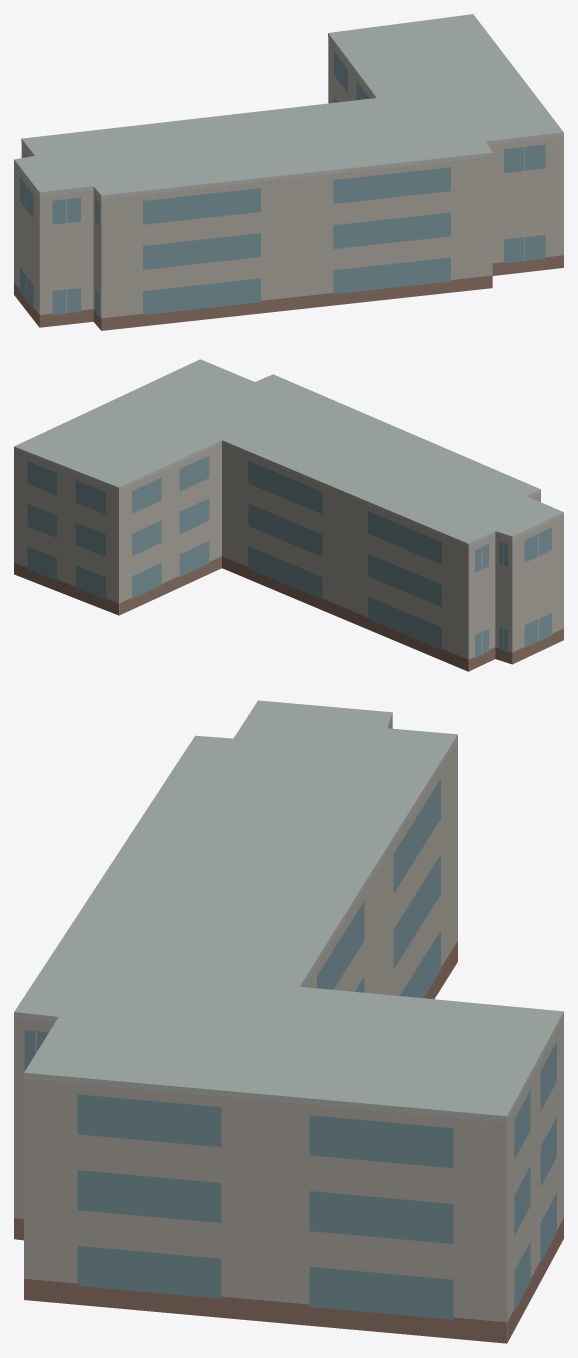
The model's file is survey-upis-32679954.glb.
3 views of the same model, one above another, from view 1: azimuth 30°, elevation 25°; view 2: azimuth 150°, elevation 25°; view 3: azimuth 270°, elevation 25° (orthographic). The views are drawn at different scales.
Visible parts, largest first — view 1: survey-upis-32679954.tmp; view 2: survey-upis-32679954.tmp; view 3: survey-upis-32679954.tmp.
Boxes of the visible parts, bbox=[...] form: survey-upis-32679954.tmp: bbox=[14, 14, 563, 330]; survey-upis-32679954.tmp: bbox=[14, 359, 563, 671]; survey-upis-32679954.tmp: bbox=[14, 700, 563, 1343].
Bounding box in the file's own units: 35.92 × 9.15 × 20.07.
